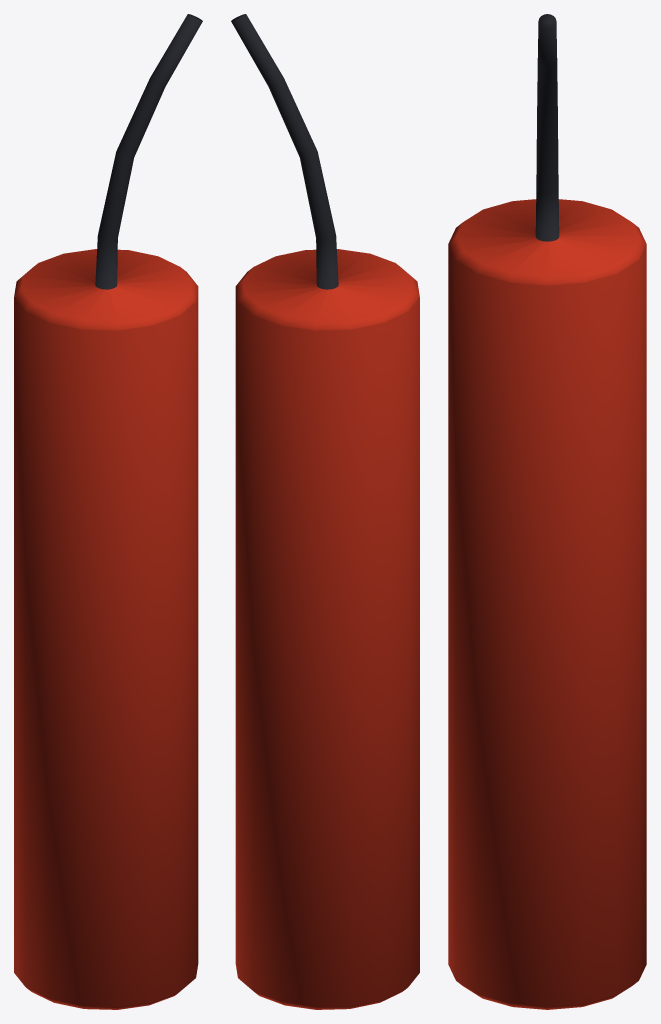
File: PROP_Dynamite.fbx
The picture shows the model from 3 angles, left to right: view 1: azimuth 30°, elevation 25°; view 2: azimuth 150°, elevation 25°; view 3: azimuth 270°, elevation 25°; orthographic projection. The views are drawn at different scales.
Parts seen in each view (by area): view 1: Dynamite; view 2: Dynamite; view 3: Dynamite.
Part boxes in pixels (left/top/right/bottom): Dynamite: left=14, top=14, right=202, bottom=1009; Dynamite: left=231, top=14, right=419, bottom=1009; Dynamite: left=448, top=14, right=646, bottom=1009.
Bounding box in the file's own units: 0.0507 × 0.2585 × 0.0464.
